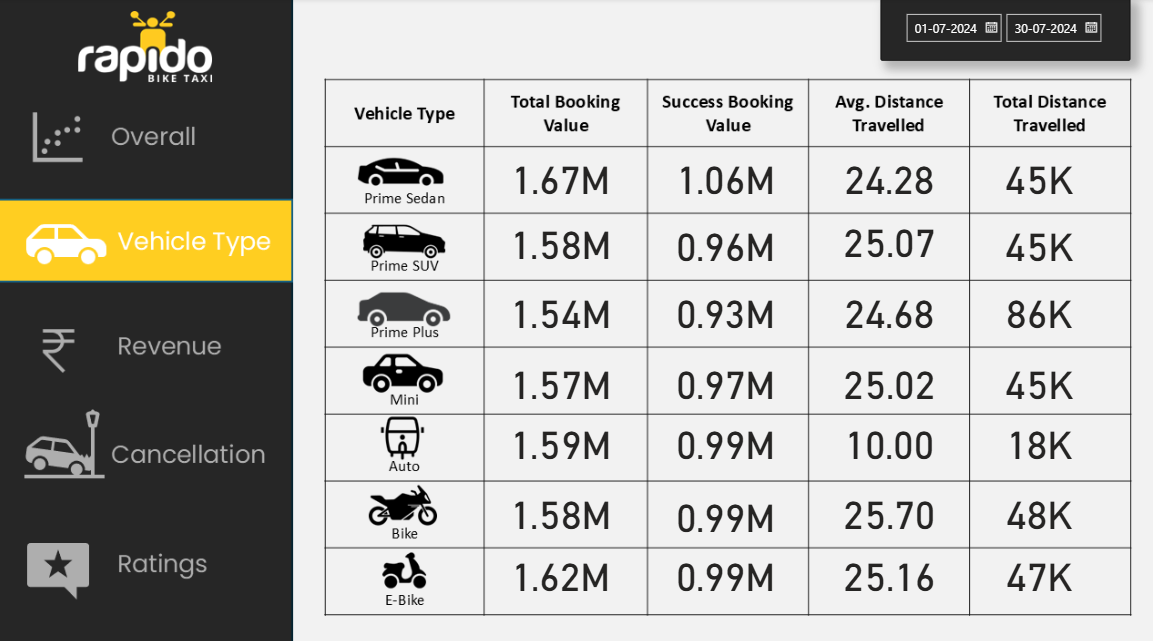

What the dashboard file says about the page in this screenshot:
{"tool":"powerbi","page":{"name":"Vehicle Type","canvas":[1280,720],"ordinal":1},"visuals":[{"type":"actionButton","box":[0,218.9,326.1,97.1],"z":0},{"type":"actionButton","box":[0,335,326.1,97.1],"z":1000},{"type":"actionButton","box":[0,450,326.1,97.1],"z":2000},{"type":"actionButton","box":[0,575.1,326.1,97.1],"z":3000},{"type":"actionButton","box":[0,109.4,326.1,97.1],"z":4000},{"type":"card","fields":{"Values":["Sum(July.Booking_Value)"]},"box":[535.2,177,164.7,60.4],"z":5000},{"type":"card","fields":{"Values":["Sum(July.Booking_Value)"]},"box":[535.2,249.7,164.7,56.3],"z":6000},{"type":"card","fields":{"Values":["Sum(July.Booking_Value)"]},"box":[535.2,323.8,164.7,60.4],"z":7000},{"type":"card","fields":{"Values":["Sum(July.Booking_Value)"]},"box":[535.2,402.1,164.7,60.4],"z":8000},{"type":"card","fields":{"Values":["Sum(July.Booking_Value)"]},"box":[535.2,467.9,164.7,60.4],"z":9000},{"type":"card","fields":{"Values":["Sum(July.Booking_Value)"]},"box":[535.2,544.8,164.7,60.4],"z":10000},{"type":"card","fields":{"Values":["Sum(July.Booking_Value)"]},"box":[535.2,612,164.7,60.4],"z":11000},{"type":"card","fields":{"Values":["Sum(July.Booking_Value)"]},"box":[716.3,177,164.7,60.4],"z":12000},{"type":"card","fields":{"Values":["Sum(July.Booking_Value)"]},"box":[716.3,249.7,164.7,60.4],"z":13000},{"type":"card","fields":{"Values":["Sum(July.Booking_Value)"]},"box":[716.3,323.8,164.7,60.4],"z":14000},{"type":"card","fields":{"Values":["Sum(July.Booking_Value)"]},"box":[716.3,402.1,164.7,60.4],"z":15000},{"type":"card","fields":{"Values":["Sum(July.Booking_Value)"]},"box":[716.3,467.9,164.7,60.4],"z":16000},{"type":"card","fields":{"Values":["Sum(July.Booking_Value)"]},"box":[716.3,547.5,164.7,60.4],"z":17000},{"type":"card","fields":{"Values":["Sum(July.Booking_Value)"]},"box":[716.3,612,164.7,60.4],"z":18000},{"type":"card","fields":{"Values":["Avg(July.Ride_Distance)"]},"box":[896.1,177,164.7,60.4],"z":19000},{"type":"card","fields":{"Values":["Avg(July.Ride_Distance)"]},"box":[896.1,245.6,164.7,60.4],"z":20000},{"type":"card","fields":{"Values":["Avg(July.Ride_Distance)"]},"box":[896.1,323.8,164.7,60.4],"z":21000},{"type":"card","fields":{"Values":["Avg(July.Ride_Distance)"]},"box":[896.1,402.1,164.7,60.4],"z":22000},{"type":"card","fields":{"Values":["Avg(July.Ride_Distance)"]},"box":[896.1,467.9,164.7,60.4],"z":23000},{"type":"card","fields":{"Values":["Avg(July.Ride_Distance)"]},"box":[896.1,544.8,164.7,60.4],"z":24000},{"type":"card","fields":{"Values":["Avg(July.Ride_Distance)"]},"box":[896.1,612,164.7,60.4],"z":25000},{"type":"card","fields":{"Values":["Sum(July.Ride_Distance)"]},"box":[1060.7,177,164.7,60.4],"z":26000},{"type":"card","fields":{"Values":["Sum(July.Ride_Distance)"]},"box":[1060.7,249.7,164.7,60.4],"z":27000},{"type":"card","fields":{"Values":["Sum(July.Ride_Distance)"]},"box":[1060.7,323.8,164.7,60.4],"z":28000},{"type":"card","fields":{"Values":["Sum(July.Ride_Distance)"]},"box":[1060.7,402.1,164.7,60.4],"z":29000},{"type":"card","fields":{"Values":["Sum(July.Ride_Distance)"]},"box":[1060.7,467.9,164.7,60.4],"z":30000},{"type":"card","fields":{"Values":["Sum(July.Ride_Distance)"]},"box":[1060.7,544.8,164.7,60.4],"z":31000},{"type":"card","fields":{"Values":["Sum(July.Ride_Distance)"]},"box":[1060.7,612,164.7,60.4],"z":32000},{"type":"slicer","title":"Date","fields":{"Values":["July.Date"]},"box":[968.8,0,274.4,68.6],"z":33000}]}

Visuals, with their boxes on the page's 1280x720 design canvas (x1, y1, x2, y2). These are canvas units, not pixel positions in the 1153x641 screenshot, which may show the page scaled, cropped or inside an application window:
actionButton: detection(0, 219, 326, 316)
actionButton: detection(0, 335, 326, 432)
actionButton: detection(0, 450, 326, 547)
actionButton: detection(0, 575, 326, 672)
actionButton: detection(0, 109, 326, 206)
card - Sum(July.Booking_Value): detection(535, 177, 700, 237)
card - Sum(July.Booking_Value): detection(535, 250, 700, 306)
card - Sum(July.Booking_Value): detection(535, 324, 700, 384)
card - Sum(July.Booking_Value): detection(535, 402, 700, 462)
card - Sum(July.Booking_Value): detection(535, 468, 700, 528)
card - Sum(July.Booking_Value): detection(535, 545, 700, 605)
card - Sum(July.Booking_Value): detection(535, 612, 700, 672)
card - Sum(July.Booking_Value): detection(716, 177, 881, 237)
card - Sum(July.Booking_Value): detection(716, 250, 881, 310)
card - Sum(July.Booking_Value): detection(716, 324, 881, 384)
card - Sum(July.Booking_Value): detection(716, 402, 881, 462)
card - Sum(July.Booking_Value): detection(716, 468, 881, 528)
card - Sum(July.Booking_Value): detection(716, 548, 881, 608)
card - Sum(July.Booking_Value): detection(716, 612, 881, 672)
card - Avg(July.Ride_Distance): detection(896, 177, 1061, 237)
card - Avg(July.Ride_Distance): detection(896, 246, 1061, 306)
card - Avg(July.Ride_Distance): detection(896, 324, 1061, 384)
card - Avg(July.Ride_Distance): detection(896, 402, 1061, 462)
card - Avg(July.Ride_Distance): detection(896, 468, 1061, 528)
card - Avg(July.Ride_Distance): detection(896, 545, 1061, 605)
card - Avg(July.Ride_Distance): detection(896, 612, 1061, 672)
card - Sum(July.Ride_Distance): detection(1061, 177, 1225, 237)
card - Sum(July.Ride_Distance): detection(1061, 250, 1225, 310)
card - Sum(July.Ride_Distance): detection(1061, 324, 1225, 384)
card - Sum(July.Ride_Distance): detection(1061, 402, 1225, 462)
card - Sum(July.Ride_Distance): detection(1061, 468, 1225, 528)
card - Sum(July.Ride_Distance): detection(1061, 545, 1225, 605)
card - Sum(July.Ride_Distance): detection(1061, 612, 1225, 672)
"Date" slicer: detection(969, 0, 1243, 69)
